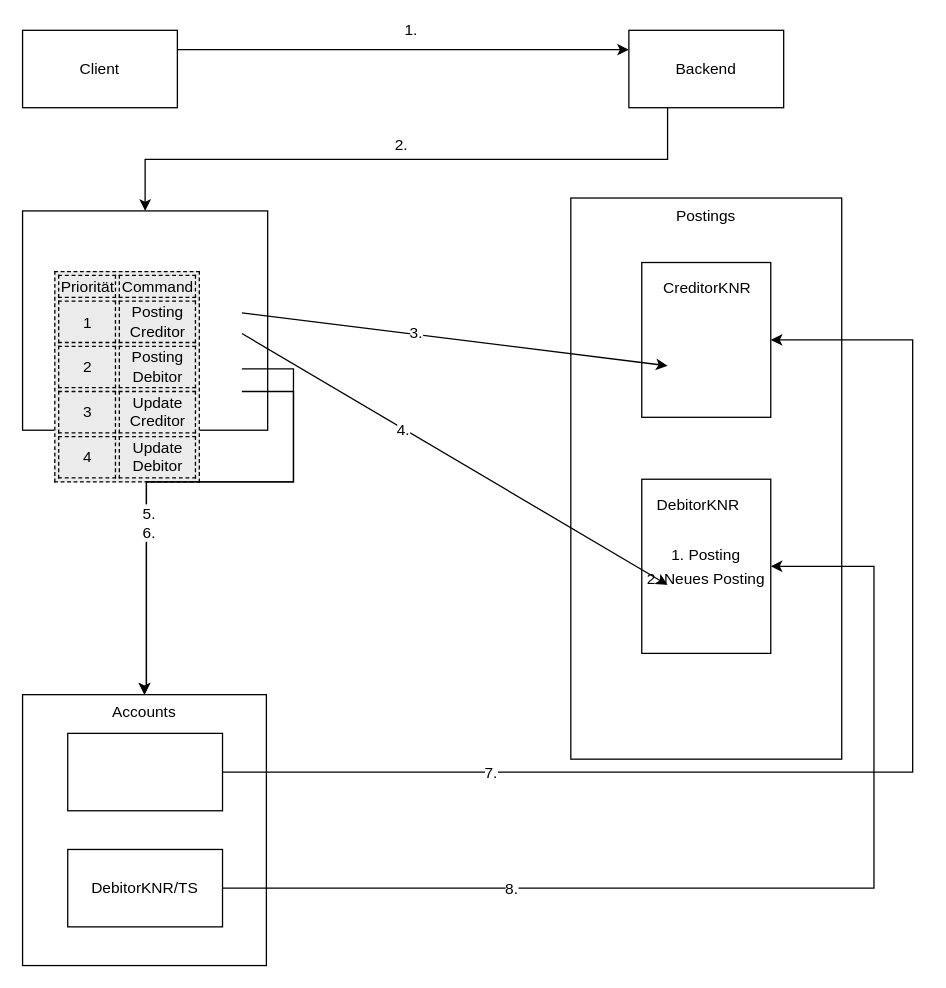
The diagram is 946 pixels wide and 988 high, and some of its shapes have lost their labels. Each missing label, with the box of its shape:
1. Posting 2. Posting 3. Neues Posting: (640, 261, 771, 417)
CreditorKNR/TS: (66, 732, 223, 811)
Journal: (21, 210, 268, 430)
